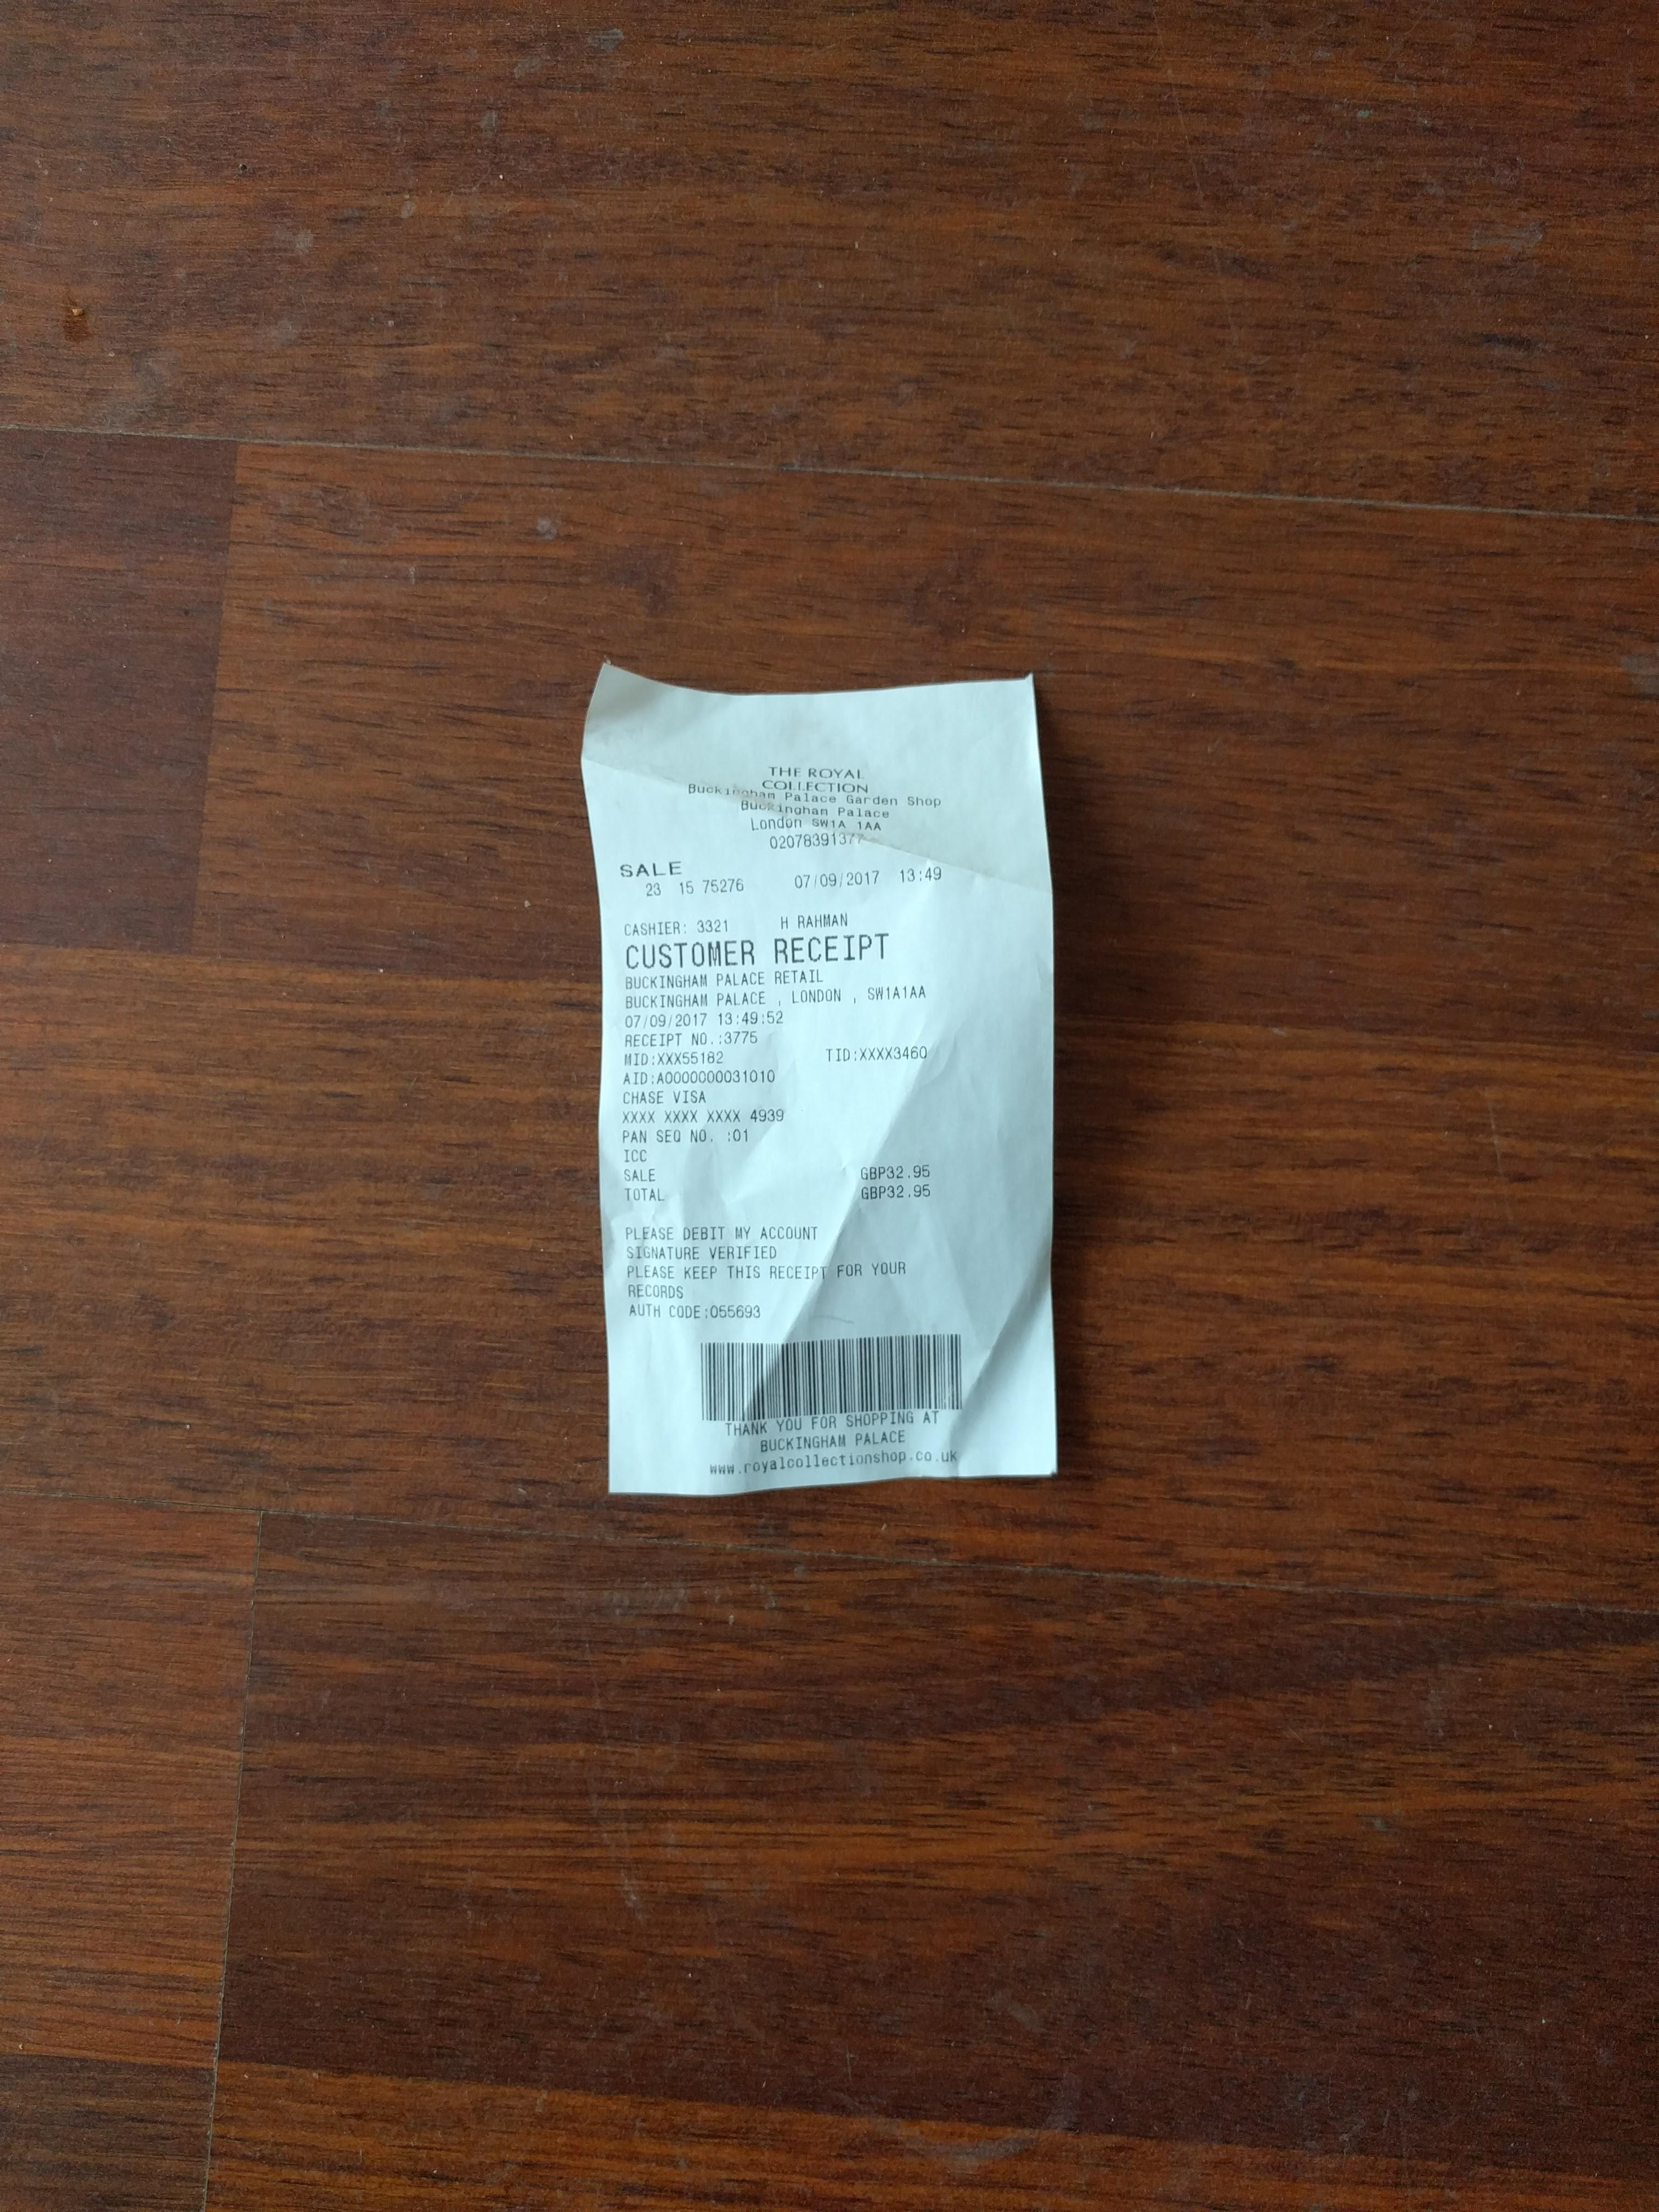paper: (464, 535, 1121, 1620)
